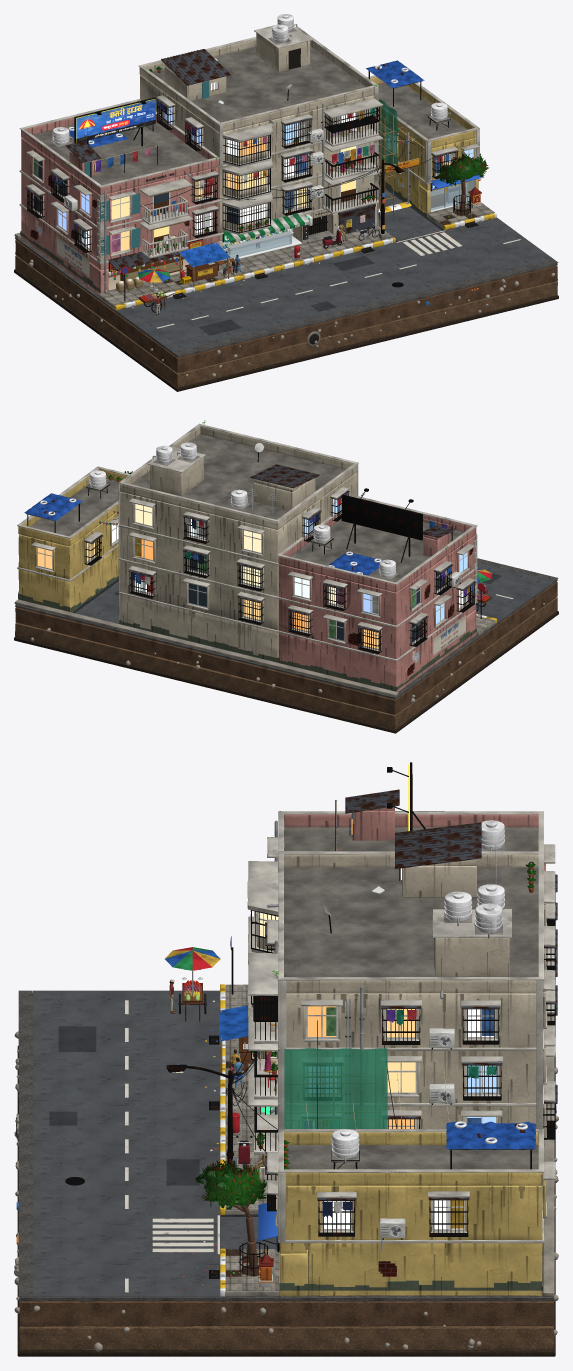
Rendered from street.glb.
3 renders of one model, top to bottom at view 1: azimuth 30°, elevation 25°; view 2: azimuth 150°, elevation 25°; view 3: azimuth 270°, elevation 25°, orthographic. The views are drawn at different scales.
Parts seen in each view (by area): view 1: static__asphalt_w100, static__trim_w30, static__roof_w60, static__wall_beige_w35, static__wall_rose_w35, static__grill_metal, soil, clay, static__wall_yellow_w35, static__subbase, base, billboard_face (+37 smaller); view 2: static__wall_beige_w35, static__wall_rose_w35, static__trim_w30, static__roof_w60, soil, clay, static__grill_metal, static__wall_yellow_w35, static__asphalt_w100, base, static__footpath_w80, static__subbase (+18 smaller); view 3: static__asphalt_w100, static__wall_beige_w35, static__roof_w60, static__wall_yellow_w35, static__trim_w30, soil, clay, green_net, static__subbase, static__grill_metal, base, static__wall_rose_w35 (+27 smaller).
Boxes of the visible parts, x1,y1,x2,y2 form: static__asphalt_w100: (116,184,553,352); static__trim_w30: (19,25,479,264); static__roof_w60: (33,47,466,185); static__wall_beige_w35: (139,33,377,261); static__wall_rose_w35: (21,114,218,294); static__grill_metal: (27,71,466,274); soil: (15,240,557,373); clay: (15,255,557,387); static__wall_yellow_w35: (370,77,478,216); static__subbase: (15,203,558,357); base: (14,269,558,391); billboard_face: (76,99,155,142); static__wall_beige_w35: (120,426,357,662); static__wall_rose_w35: (278,511,476,691); static__trim_w30: (17,423,477,661); static__roof_w60: (30,434,463,582); soil: (15,581,557,714); clay: (15,597,557,729); static__grill_metal: (27,452,474,653); static__wall_yellow_w35: (18,469,127,611); static__asphalt_w100: (69,562,553,629); base: (14,611,558,733); static__footpath_w80: (14,599,495,696); static__subbase: (15,558,558,699); static__asphalt_w100: (33,990,542,1297); static__wall_beige_w35: (256,854,545,1137); static__roof_w60: (284,827,538,1169); static__wall_yellow_w35: (276,1132,545,1296); static__trim_w30: (247,811,555,1243); soil: (19,1300,553,1326); clay: (19,1300,554,1350); green_net: (284,1048,387,1128); static__subbase: (18,990,553,1301); static__grill_metal: (251,762,555,1252); base: (17,1045,555,1356); static__wall_rose_w35: (276,807,545,870).
Size of the model in its own units: 15.92 by 8.12 by 11.59.
Materials: 264 (139 with a texture image).
